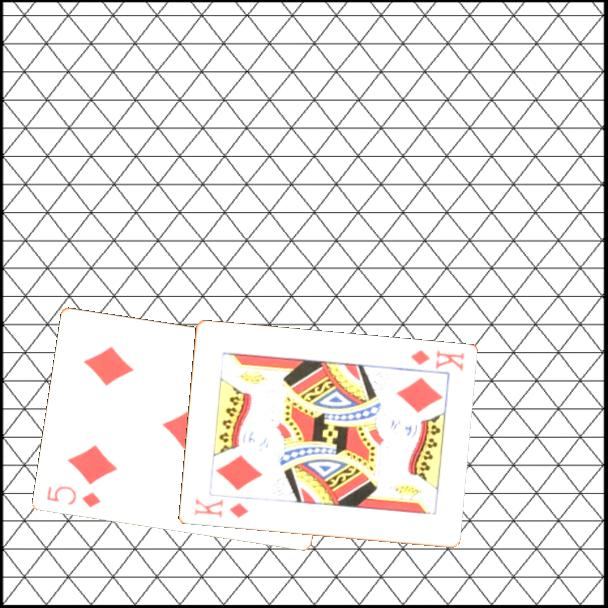d05: (44, 482, 104, 510)
d13: (407, 346, 467, 375), (190, 495, 251, 521)
